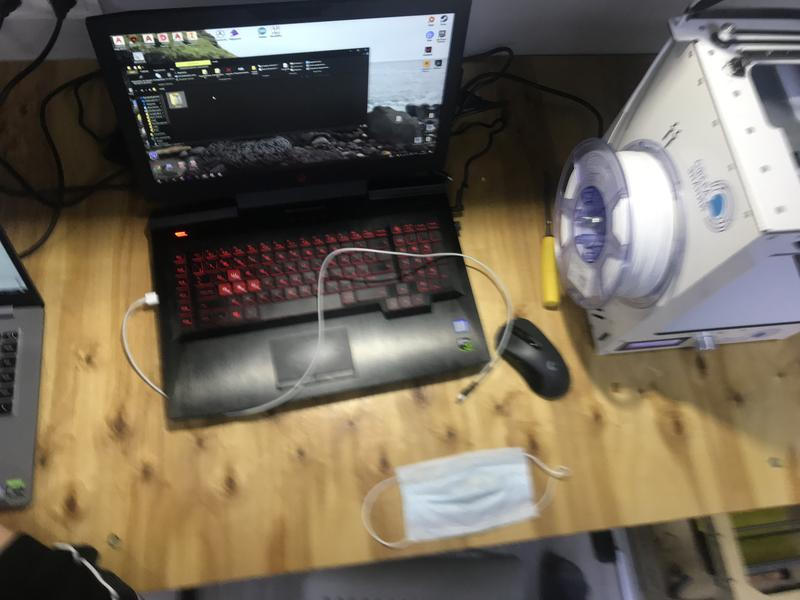medical_mask: (362, 444, 570, 545)
